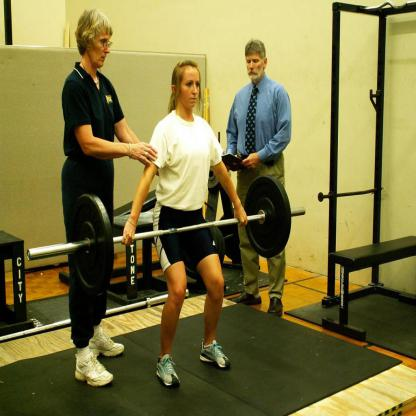face: (178, 71, 200, 108), (90, 33, 111, 67), (247, 52, 264, 78)
